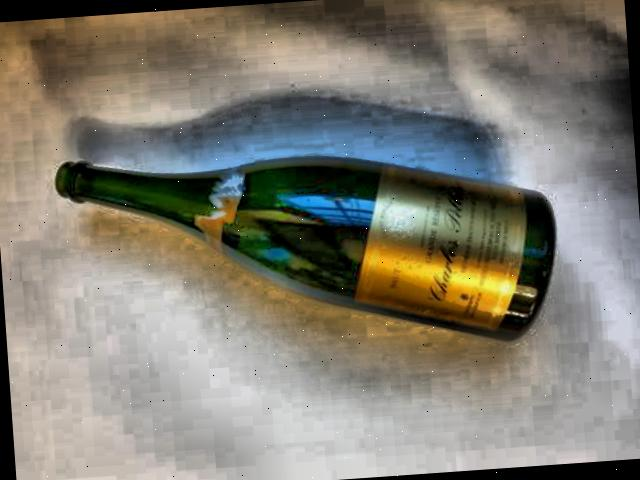Bottles: (37, 90, 586, 394)
